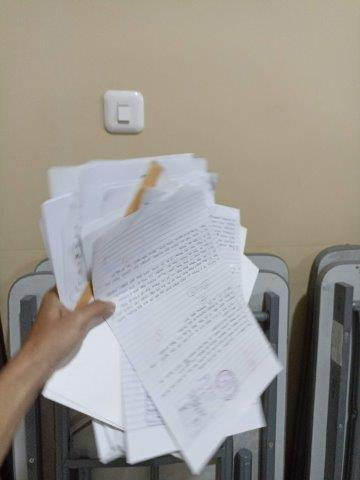kertas: (41, 153, 283, 472)
